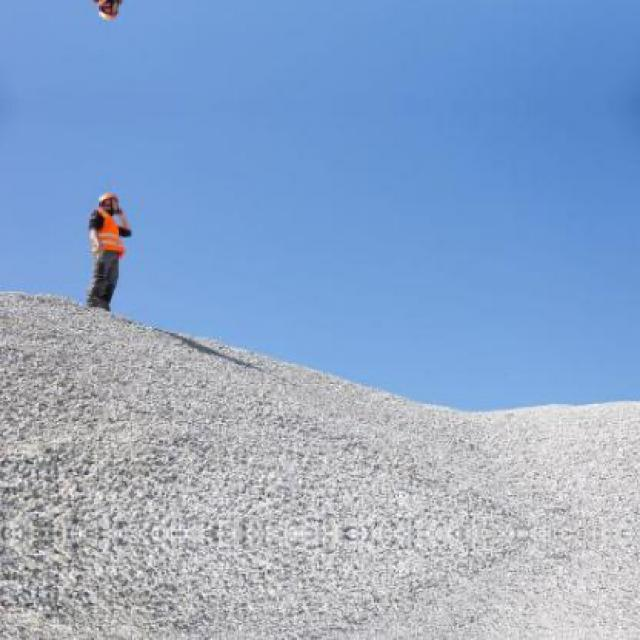helmet: (90, 0, 124, 25), (91, 190, 123, 214)
